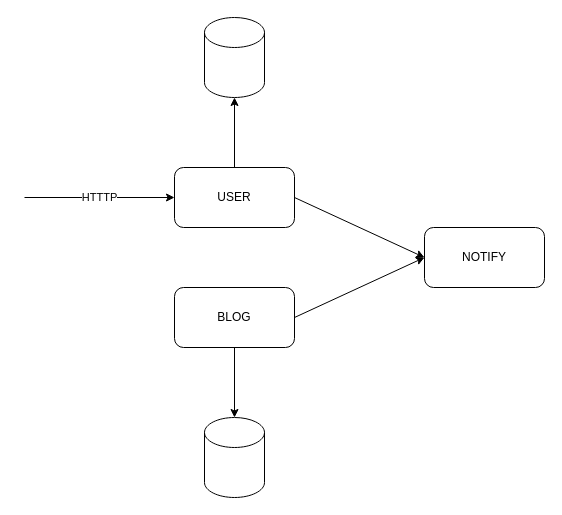
Image size: 562x515. Some labels were removed from this diagram. The shapes that lost their labels are listed below. From the top down, each one's centre as x and y in pixels, then its label:
At [234,57]: "MongoDB".
At [234,457]: "PG".
